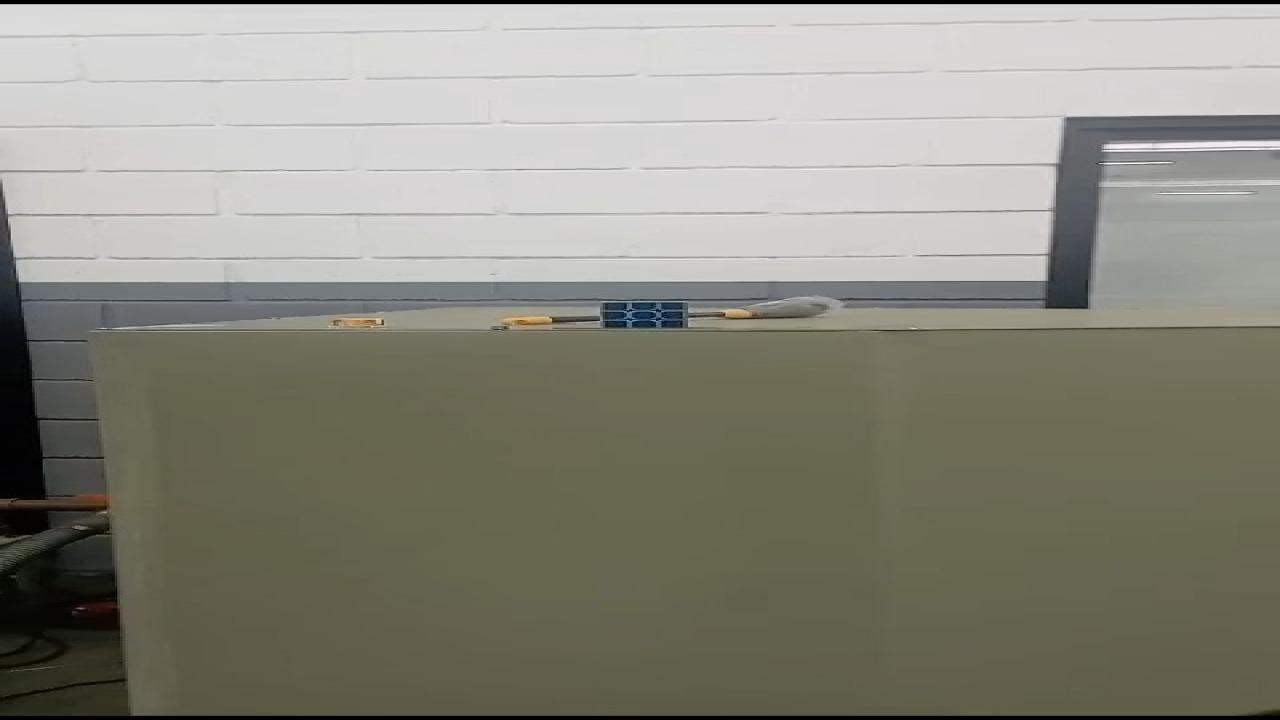Cube: (599, 301, 688, 329)
